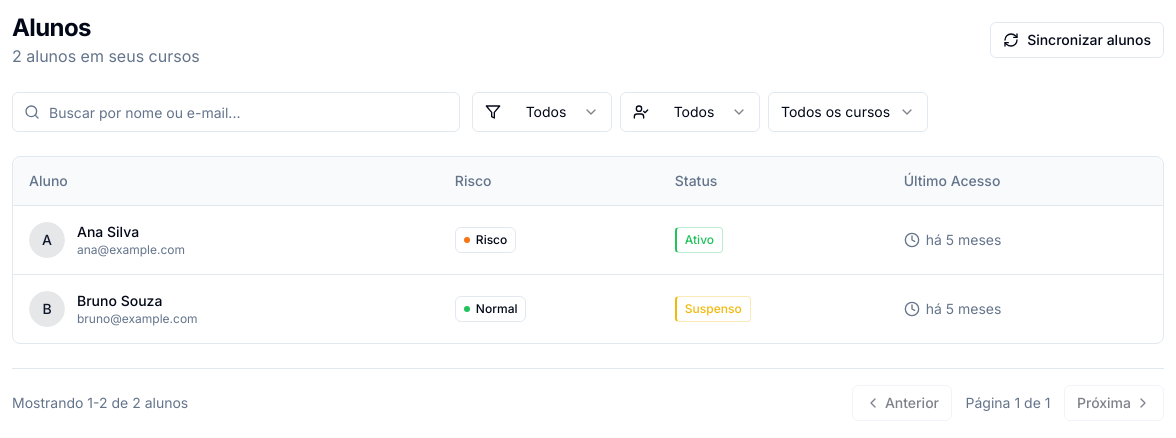
Test case: Students page › filters students by enrollment status
The image size is (1176, 438).
Step 1. Click the 2nd dropdown labelled "Todos" → (690, 112), box [620,92,760,132]
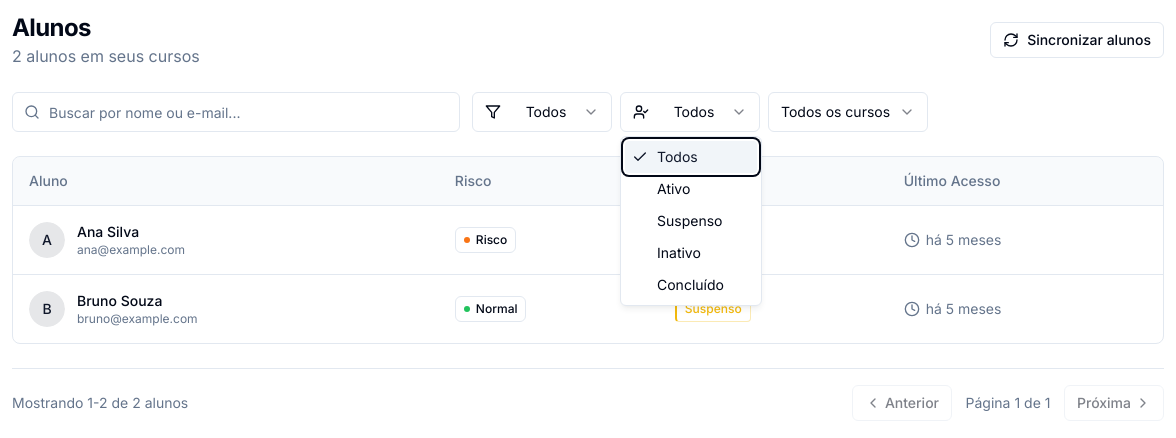
Step 2. Click the option "Suspenso" → (690, 220), box [657,212,722,229]
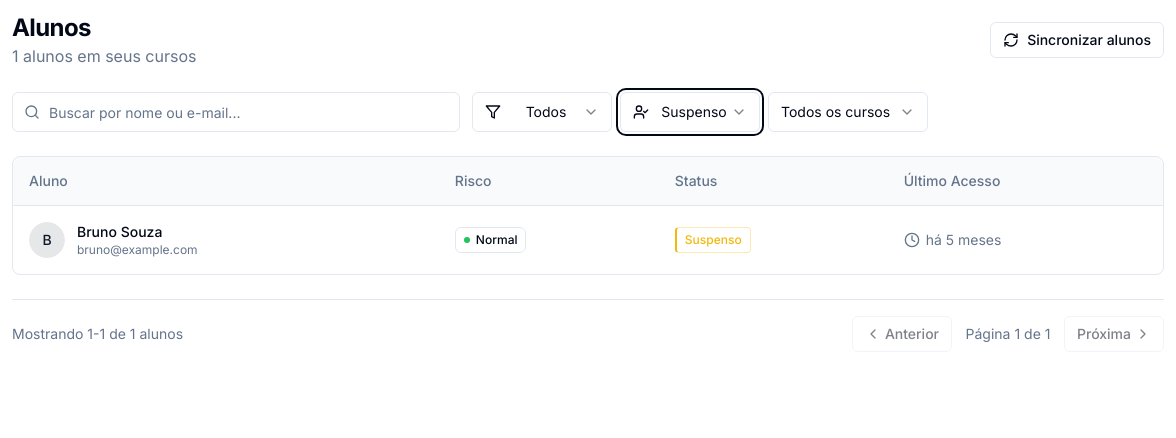
Check: the text "Bruno Souza" is shown, box [77,222,162,240]
Check: the button "Ana Silva" is gone
